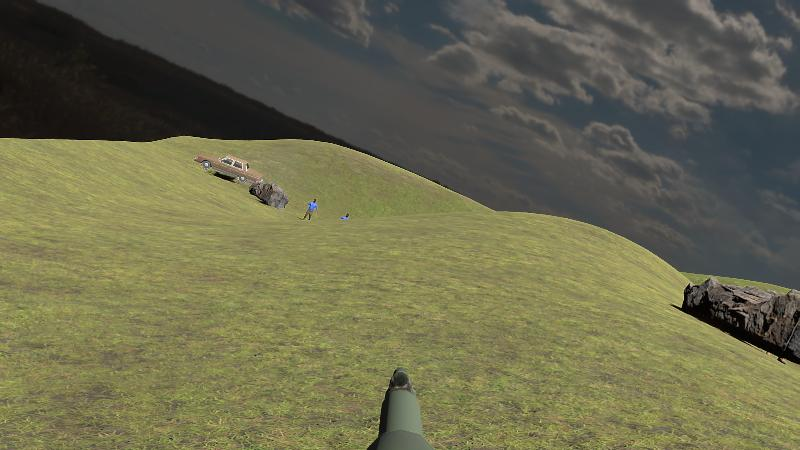car: (194, 153, 264, 188)
